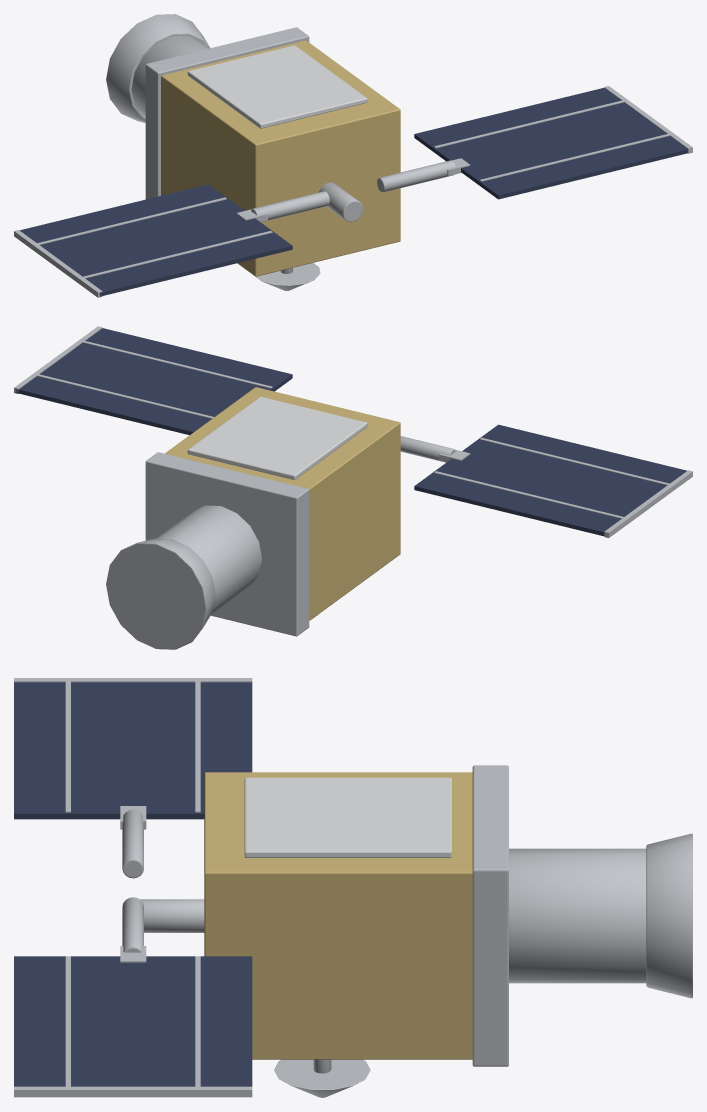
File: satellite-eo.glb
3 views of the same model, one above another, from view 1: azimuth 30°, elevation 25°; view 2: azimuth 150°, elevation 25°; view 3: azimuth 270°, elevation 25° (orthographic). The views are drawn at different scales.
Visible parts, largest first — view 1: Bus, SolarWings; view 2: Bus, SolarWings; view 3: Bus, SolarWings.
Part boxes in pixels (x1,y1,x2,y2): Bus: (106, 14, 455, 290); SolarWings: (14, 86, 692, 297); Bus: (106, 387, 455, 649); SolarWings: (14, 326, 692, 537); Bus: (122, 765, 692, 1097); SolarWings: (14, 678, 252, 1097).
Bounding box in the file's own units: 3.76 × 1.2 × 2.62.
